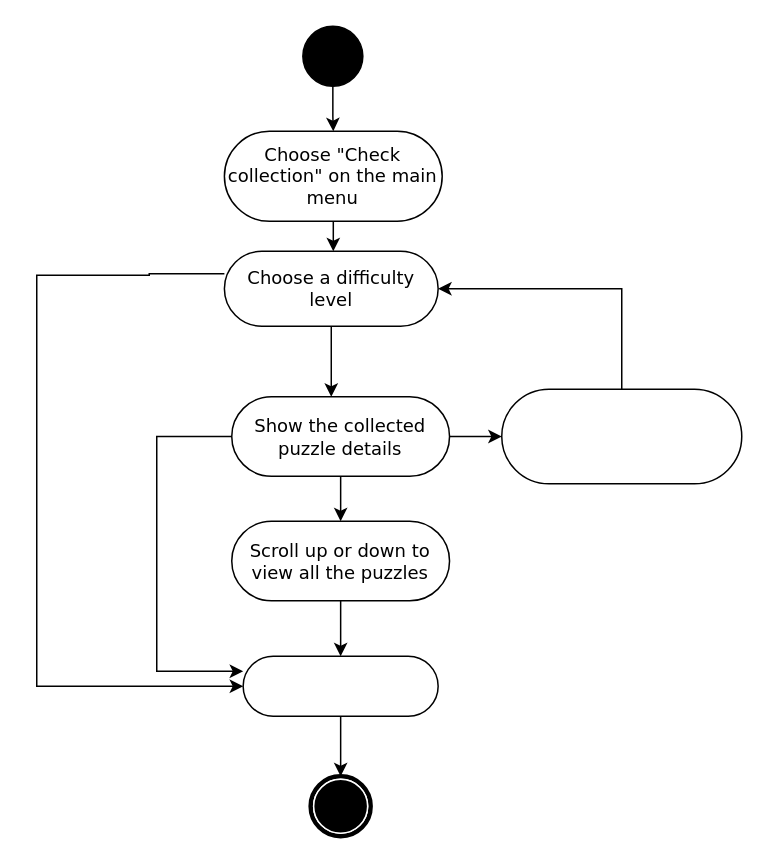
This 768x863 diagram has some shape labels left out. The box of each missing label's shape, as (x1, y1, x2, y2) in pixels:
Return to choose another difficulity level: (500, 388, 742, 484)
Return to the main menu: (242, 655, 438, 716)
